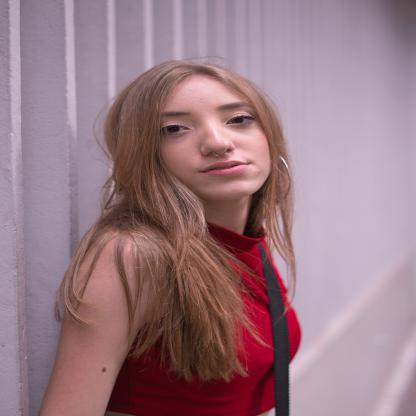Eye: (223, 111, 256, 128), (160, 121, 193, 138)
Mouth: (198, 160, 252, 177)
Nose: (199, 124, 236, 156)
